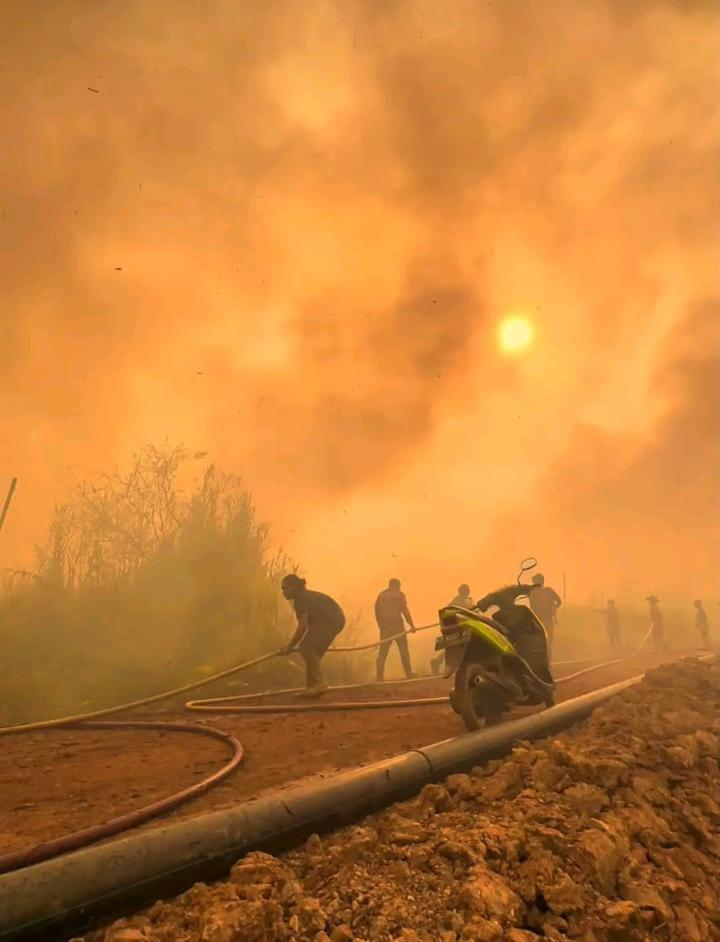Deteksi-Objek-Citra-Berasap: (0, 0, 719, 682)
Kendaraan: (431, 557, 558, 731)
Manusia: (279, 574, 346, 698), (374, 578, 416, 683), (528, 573, 562, 647), (645, 595, 666, 655), (600, 598, 621, 655), (446, 584, 481, 613), (692, 600, 711, 652)
Vegetasi: (0, 438, 302, 721)
